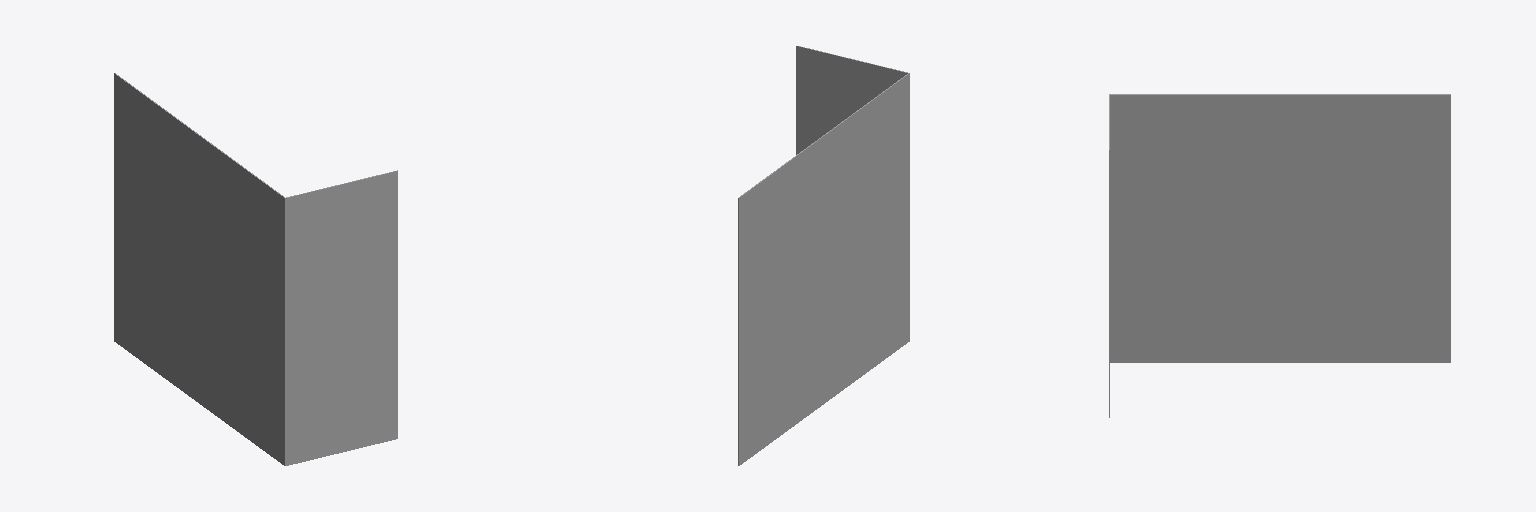
The model's file is Door_1.obj.
3 views of the same model, side by side, from view 1: azimuth 30°, elevation 25°; view 2: azimuth 150°, elevation 25°; view 3: azimuth 270°, elevation 25° (orthographic).
Visible parts, largest first — view 1: Mesh4_Group4_Model; view 2: Mesh4_Group4_Model; view 3: Mesh4_Group4_Model.
Part boxes in pixels (x1,y1,x2,y2): Mesh4_Group4_Model: (114, 73, 397, 465); Mesh4_Group4_Model: (738, 46, 909, 465); Mesh4_Group4_Model: (1109, 94, 1450, 417).
Size of the model in its own units: 51.6 by 117 by 135.